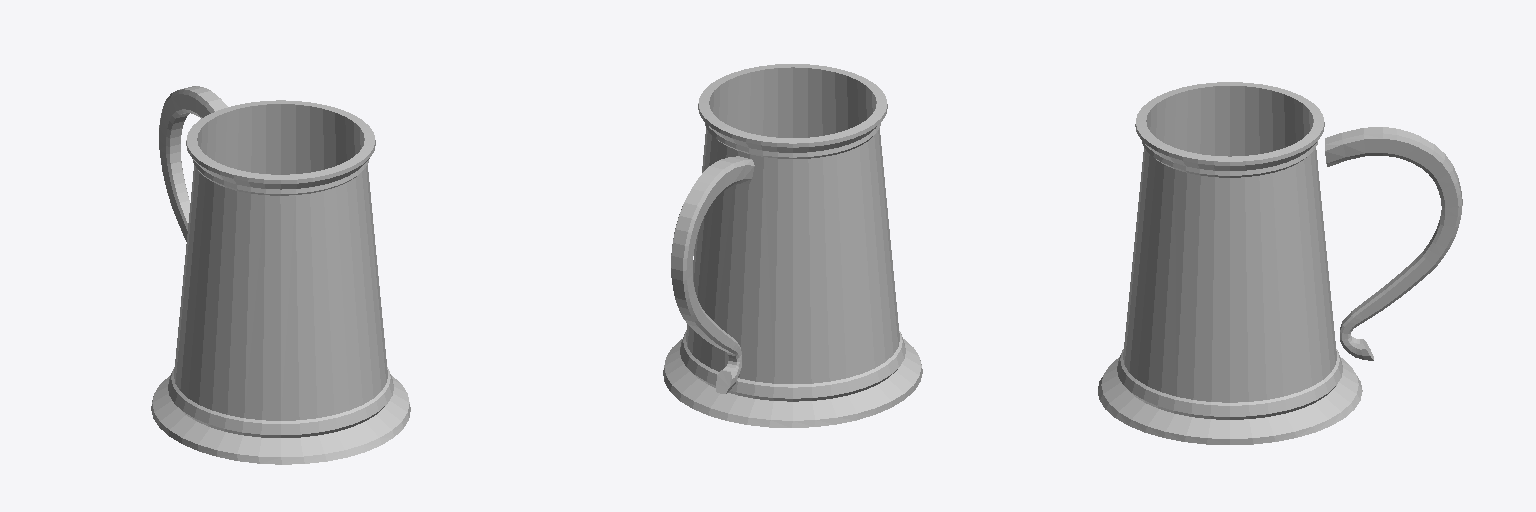
File: beer.obj
3 renders of one model, left to right at view 1: azimuth 30°, elevation 25°; view 2: azimuth 150°, elevation 25°; view 3: azimuth 270°, elevation 25°, orthographic.
Visible parts, largest first — view 1: w_beer_stein; view 2: w_beer_stein; view 3: w_beer_stein.
Part boxes in pixels (x1,y1,x2,y2): w_beer_stein: (151,86,410,464); w_beer_stein: (663,64,922,427); w_beer_stein: (1098,82,1462,444).
Bounding box in the file's own units: 0.1825 × 0.2103 × 0.258.